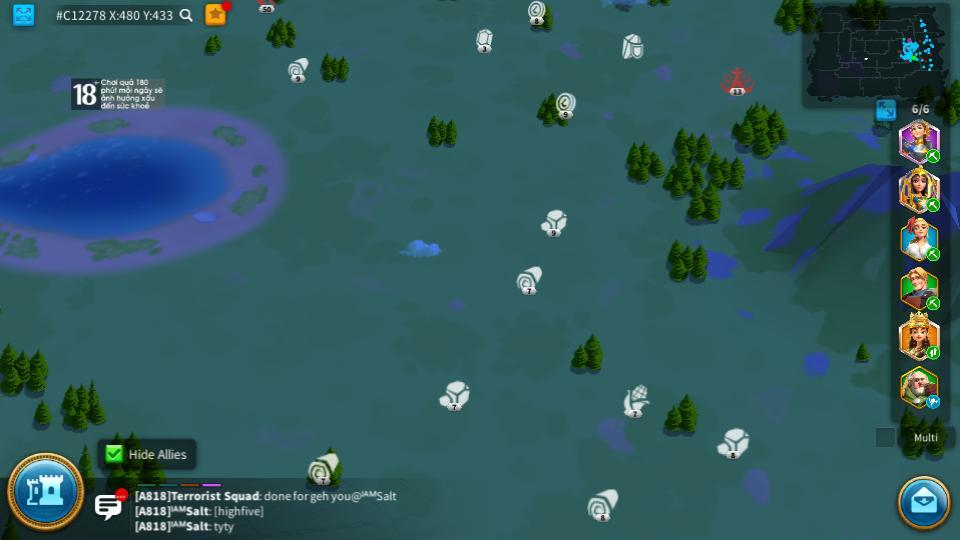gem-z-out: (545, 209, 566, 232), (475, 28, 494, 50)
march_idle: (925, 394, 942, 408)
march_marching: (925, 197, 941, 212), (925, 345, 941, 359), (925, 150, 942, 162), (925, 248, 942, 260), (925, 297, 942, 308)
